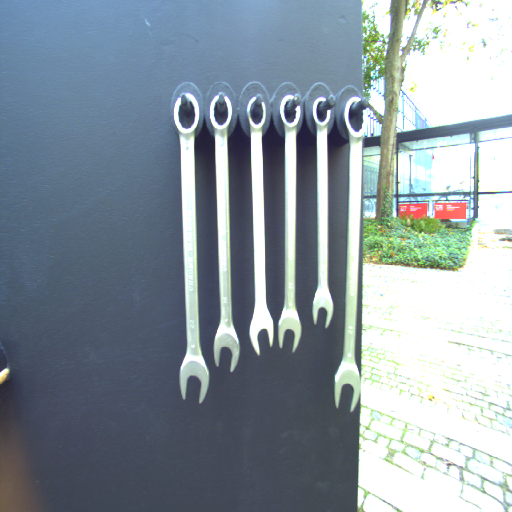bottom: (178, 351, 209, 407), (331, 362, 361, 411), (211, 324, 241, 371), (275, 306, 303, 356), (247, 308, 274, 355), (309, 287, 335, 331)
top: (343, 95, 369, 144), (173, 92, 201, 136), (276, 94, 303, 132), (209, 91, 232, 133), (310, 95, 334, 130), (247, 92, 267, 127)
